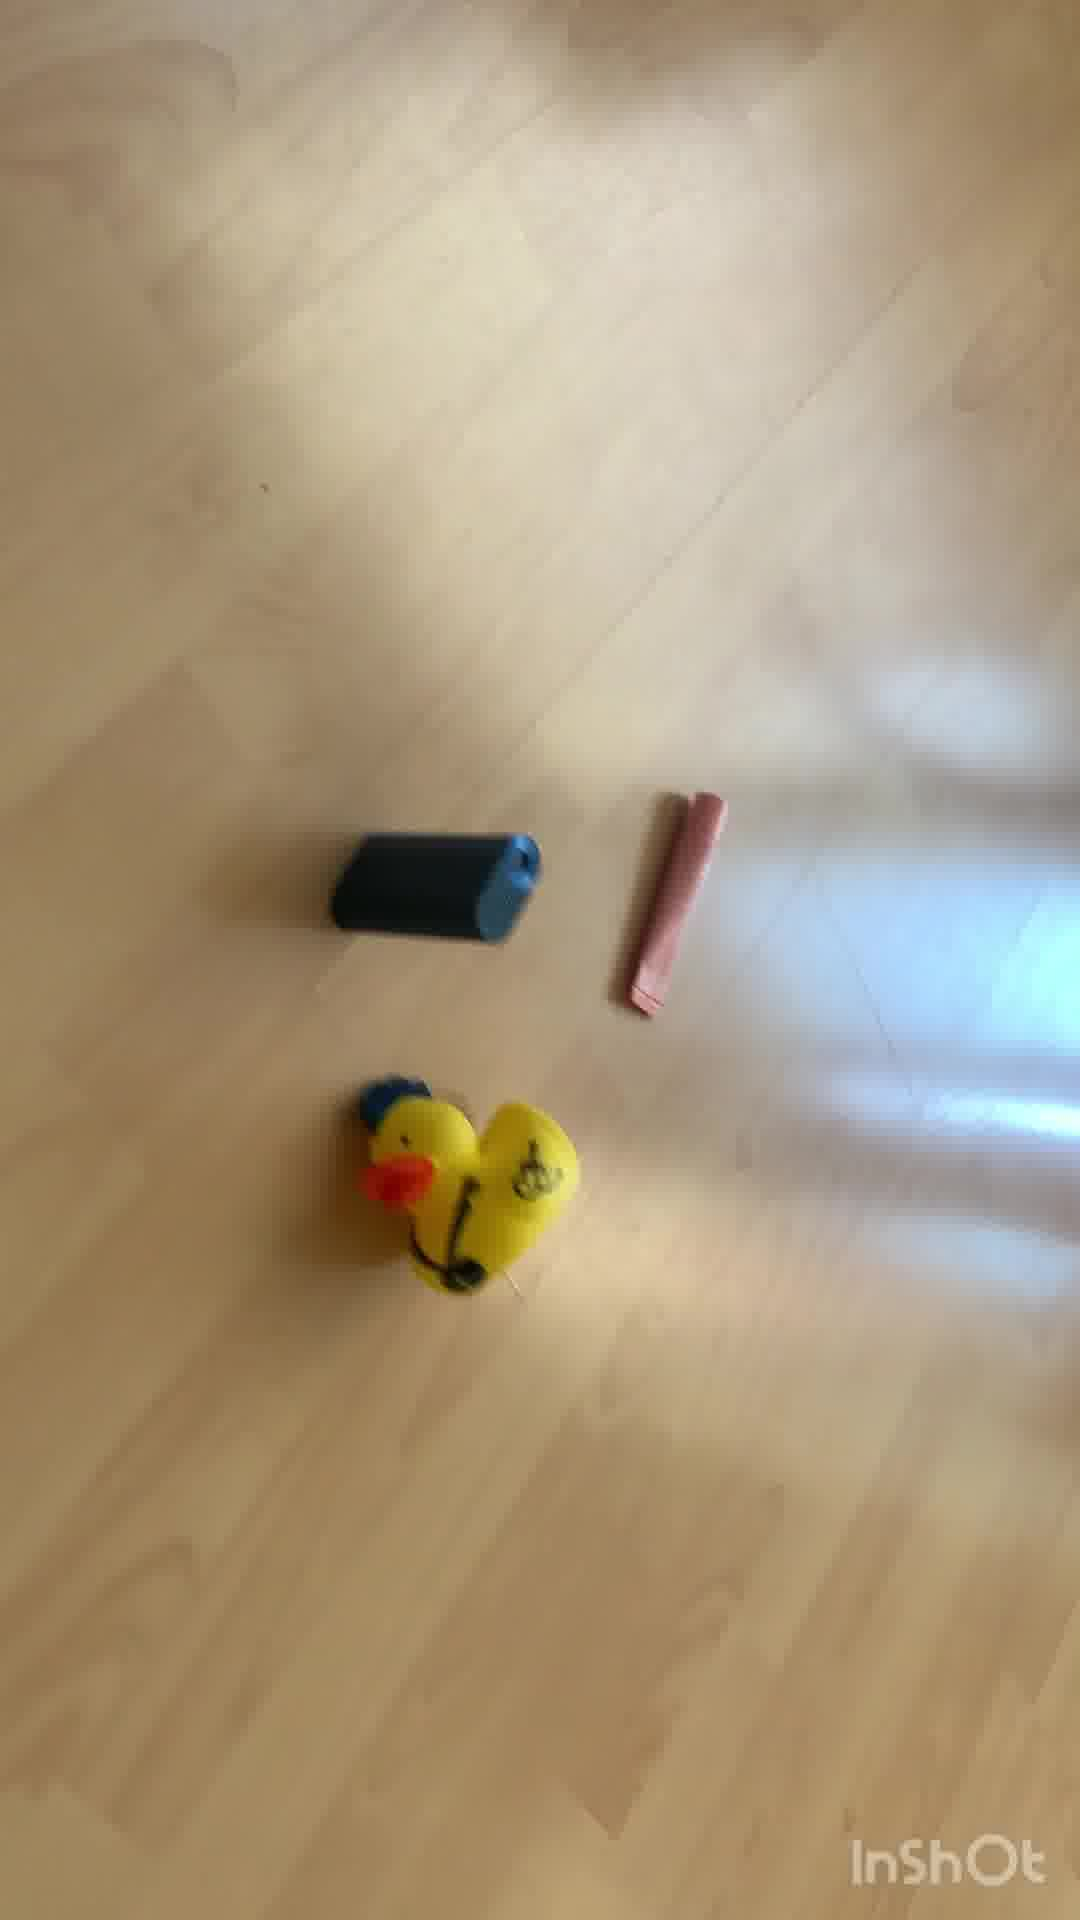duck: (349, 1080, 597, 1298)
glo: (320, 833, 545, 944)
lip balm: (613, 782, 733, 1031)
